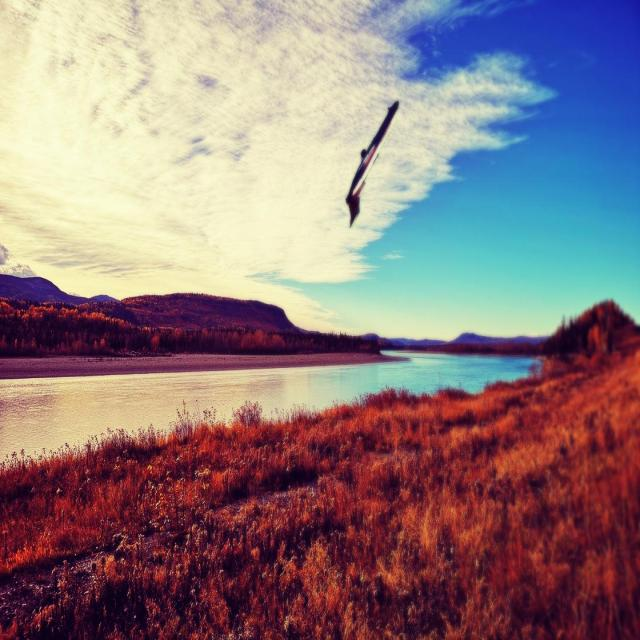airplane: (345, 99, 399, 228)
